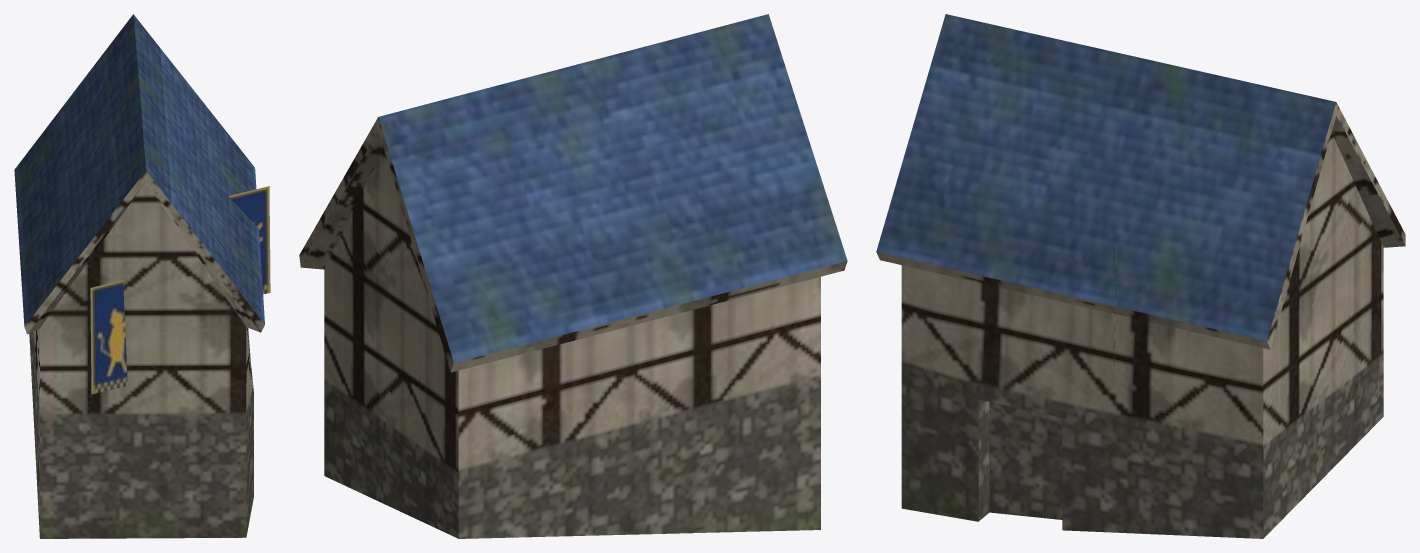
File: house_02_card_lod2.glb
The picture shows the model from 3 angles, left to right: view 1: azimuth 30°, elevation 25°; view 2: azimuth 150°, elevation 25°; view 3: azimuth 270°, elevation 25°; orthographic projection. The views are drawn at different scales.
Visible parts, largest first — view 1: house_02_game_card; view 2: house_02_game_card; view 3: house_02_game_card.
Part boxes in pixels (box(x1,y1,x2,y2)): house_02_game_card: box(14, 14, 270, 538); house_02_game_card: box(299, 14, 847, 538); house_02_game_card: box(876, 14, 1405, 538).
Bounding box in the file's own units: 9.3 × 9.89 × 10.62.
1 material, 1 textured.
